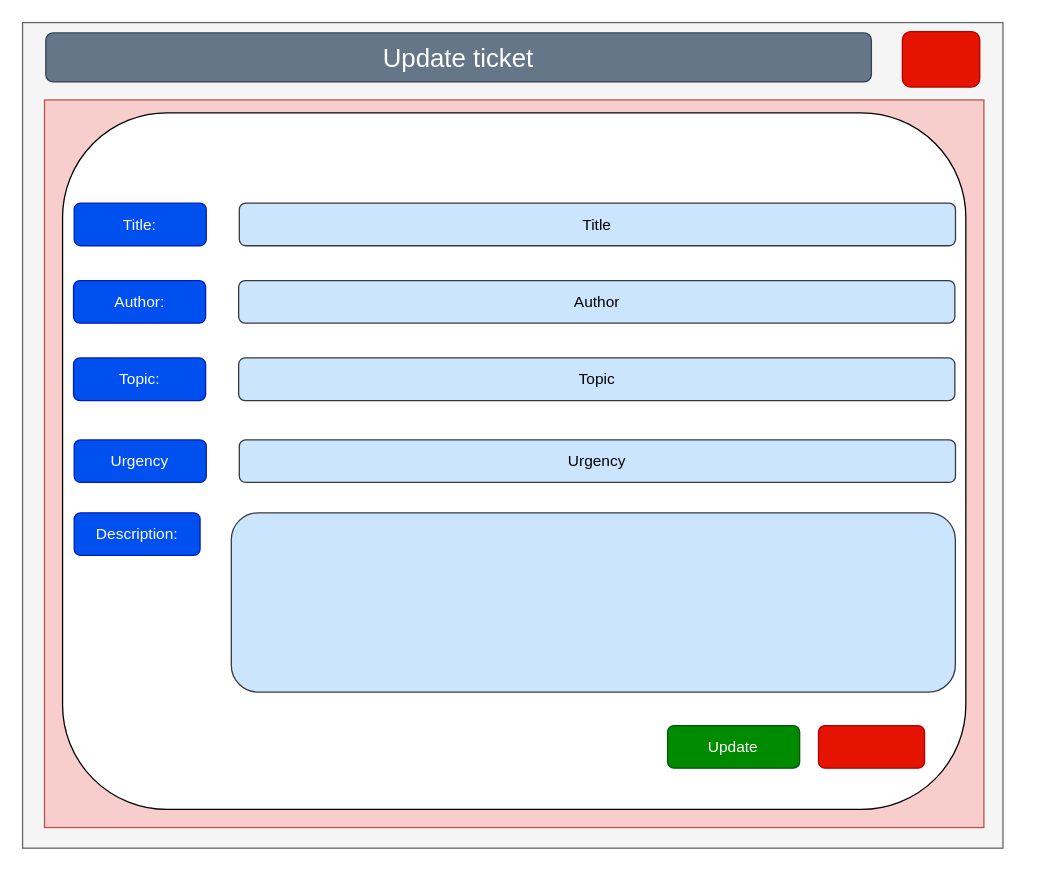
The diagram is 1064 pixels wide and 871 high, and some of its shapes have lost their labels. Here are the shapes that lost their labels. From the top down, the box of each, then its label:
(901, 30, 980, 87): Close
(230, 511, 955, 692): Description
(817, 724, 925, 768): Cancel
